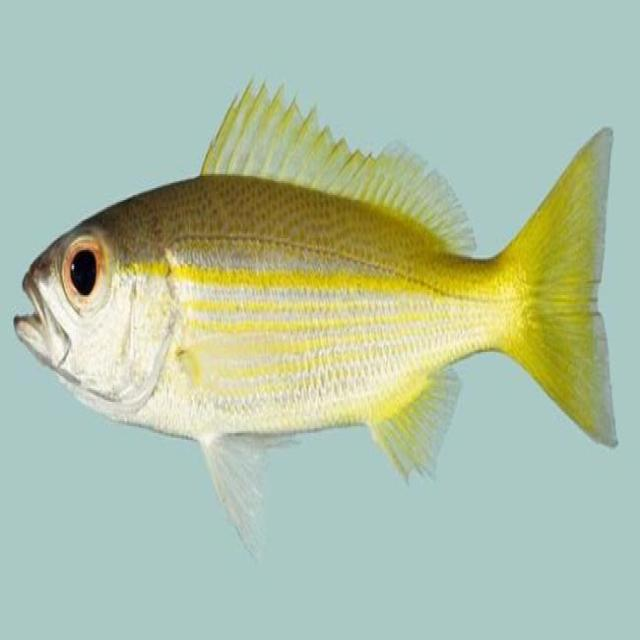ikan: (13, 74, 619, 554)
